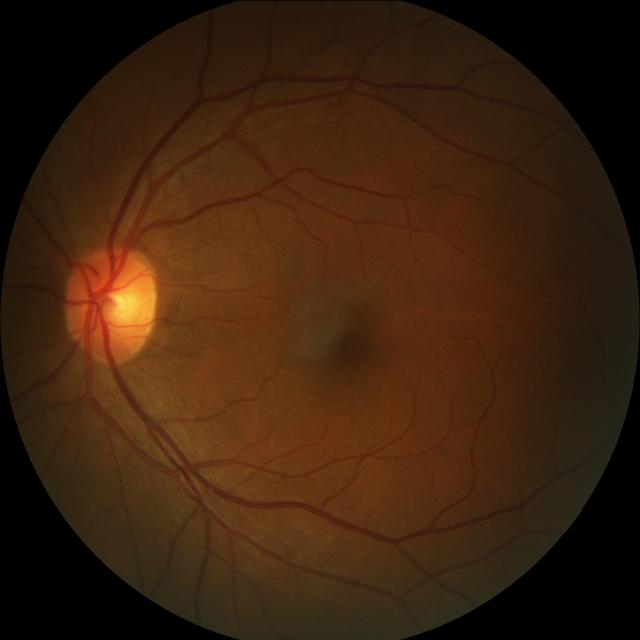OC: (87, 271, 136, 329)
OD: (63, 244, 156, 361)
